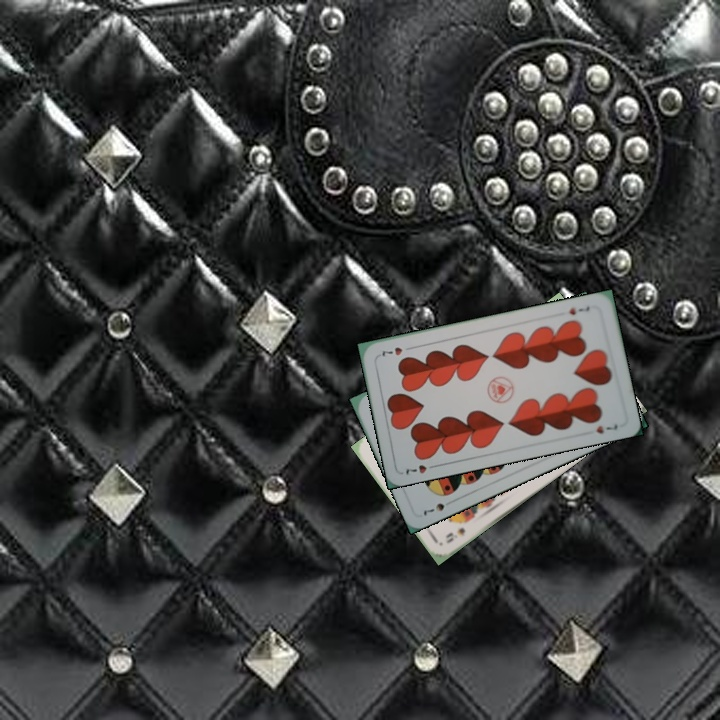H7: (402, 460, 440, 477), (565, 302, 592, 318)
S7: (419, 496, 457, 518)
S9: (441, 523, 468, 546)
